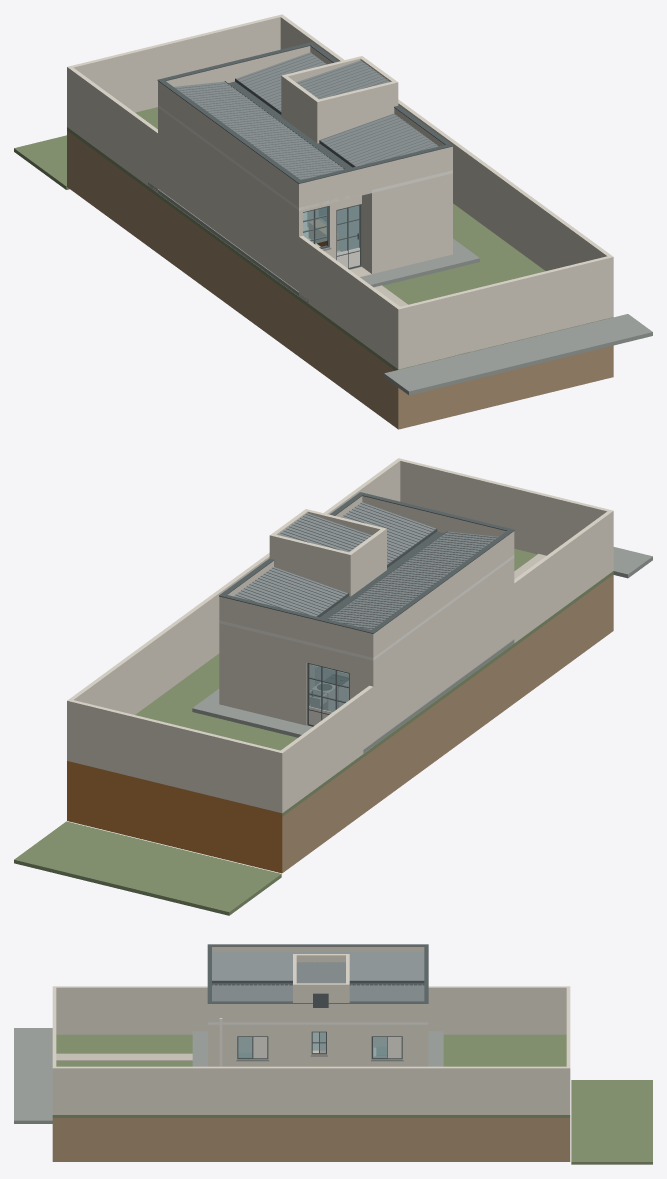
The model's file is casa-bp-modelo.obj.
3 views of the same model, one above another, from view 1: azimuth 30°, elevation 25°; view 2: azimuth 150°, elevation 25°; view 3: azimuth 270°, elevation 25° (orthographic). The views are drawn at different scales.
Parts seen in each view (by area): view 1: Solo em corte esquemático — perfil lateral não levantado, Muro frontal — portões ainda não definidos, Muro lateral na divisa da casa — 2,00 m, Parede cega / divisa do desenho, Muro lateral direito do desenho — 2,00 m, Onda de fibrocimento, Muro fundos — 2,00 m sobre terreno, Terreno 7,50 × 20,00 m — cota plana provisória, Passeio público — contexto ilustrativo, Frente dormitório 1, Volume elevado caixa d’água, Platibanda frente / fundo (+14 smaller); view 2: Solo em corte esquemático — perfil lateral não levantado, Face indicativa de contenção — 2 m estimados; seção e fundação n, Muro fundos — 2,00 m sobre terreno, Muro lateral na divisa da casa — 2,00 m, Referência do nível do vizinho — extensão apenas ilustrativa, Parede cega / divisa do desenho, Muro lateral direito do desenho — 2,00 m, Muro frontal — portões ainda não definidos, Onda de fibrocimento, Fundo, Terreno 7,50 × 20,00 m — cota plana provisória, Volume elevado caixa d’água (+13 smaller); view 3: Muro lateral direito do desenho — 2,00 m, Solo em corte esquemático — perfil lateral não levantado, Muro lateral na divisa da casa — 2,00 m, Terreno 7,50 × 20,00 m — cota plana provisória, Fachada lateral com janelas, Referência do nível do vizinho — extensão apenas ilustrativa, Platibanda lateral, Pano 1 — social, Passeio público — contexto ilustrativo, Onda de fibrocimento, Volume elevado caixa d’água, Pano 2 — dormitório 1 (+12 smaller).
Part boxes in pixels (box(x1,y1,x2,y2)): Solo em corte esquemático — perfil lateral não levantado: box(67, 131, 613, 429); Muro frontal — portões ainda não definidos: box(400, 256, 609, 368); Muro lateral na divisa da casa — 2,00 m: box(67, 66, 402, 369); Parede cega / divisa do desenho: box(158, 108, 302, 291); Muro lateral direito do desenho — 2,00 m: box(279, 14, 613, 317); Onda de fibrocimento: box(175, 52, 438, 179); Muro fundos — 2,00 m sobre terreno: box(71, 15, 280, 112); Terreno 7,50 × 20,00 m — cota plana provisória: box(67, 107, 613, 370); Passeio público — contexto ilustrativo: box(384, 314, 652, 395); Frente dormitório 1: box(369, 174, 448, 273); Volume elevado caixa d’água: box(281, 56, 398, 143); Platibanda frente / fundo: box(166, 46, 448, 206); Solo em corte esquemático — perfil lateral não levantado: box(282, 574, 613, 872); Face indicativa de contenção — 2 m estimados; seção e fundação n: box(67, 761, 282, 873); Muro fundos — 2,00 m sobre terreno: box(71, 700, 280, 812); Muro lateral na divisa da casa — 2,00 m: box(278, 510, 613, 813); Referência do nível do vizinho — extensão apenas ilustrativa: box(14, 821, 281, 915); Parede cega / divisa do desenho: box(369, 558, 514, 741); Muro lateral direito do desenho — 2,00 m: box(67, 458, 401, 761); Muro frontal — portões ainda não definidos: box(400, 459, 609, 555); Onda de fibrocimento: box(233, 502, 497, 628); Fundo: box(223, 624, 369, 725); Terreno 7,50 × 20,00 m — cota plana provisória: box(135, 549, 613, 816); Volume elevado caixa d’água: box(269, 509, 386, 596); Muro lateral direito do desenho — 2,00 m: box(52, 1066, 570, 1114); Solo em corte esquemático — perfil lateral não levantado: box(52, 1118, 570, 1161); Muro lateral na divisa da casa — 2,00 m: box(52, 986, 570, 1034); Terreno 7,50 × 20,00 m — cota plana provisória: box(52, 1034, 570, 1117); Fachada lateral com janelas: box(208, 1024, 428, 1066); Referência do nível do vizinho — extensão apenas ilustrativa: box(571, 1080, 652, 1164); Platibanda lateral: box(208, 946, 428, 1022); Pano 1 — social: box(212, 951, 424, 980); Passeio público — contexto ilustrativo: box(14, 1028, 52, 1123); Onda de fibrocimento: box(213, 951, 422, 1001); Volume elevado caixa d’água: box(293, 954, 349, 1022); Pano 2 — dormitório 1: box(212, 985, 292, 1001).
Bounding box in the file's own units: 8.5 × 6.68 × 24.7.
